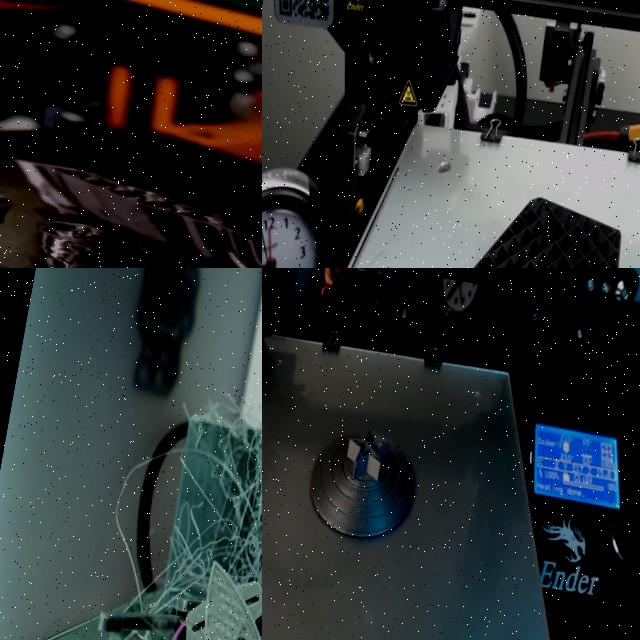spaghetti: (90, 406, 262, 640)
